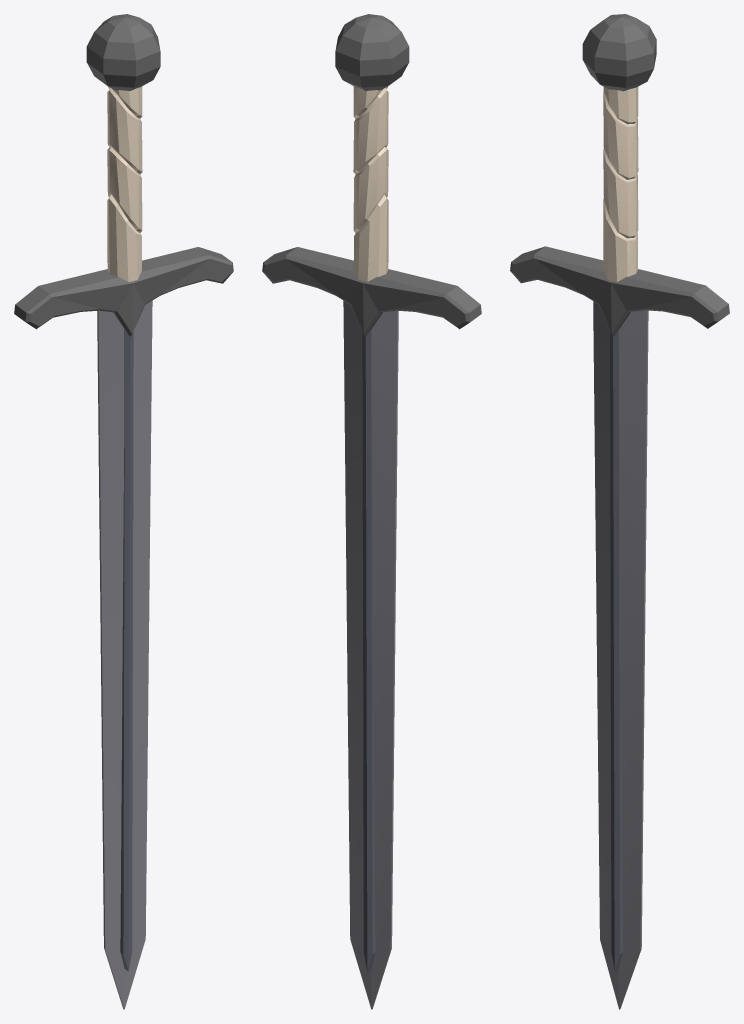
File: _SWORD_2.fbx
The picture shows the model from 3 angles, left to right: view 1: azimuth 30°, elevation 25°; view 2: azimuth 150°, elevation 25°; view 3: azimuth 330°, elevation 25°; orthographic projection.
Visible parts, largest first — view 1: SWORD_2; view 2: SWORD_2; view 3: SWORD_2.
Boxes of the visible parts, x1,y1,x2,y2 form: SWORD_2: (14, 14, 233, 1009); SWORD_2: (262, 14, 481, 1009); SWORD_2: (510, 14, 729, 1009).
Bounding box in the file's own units: 25.19 × 115 × 7.81.
